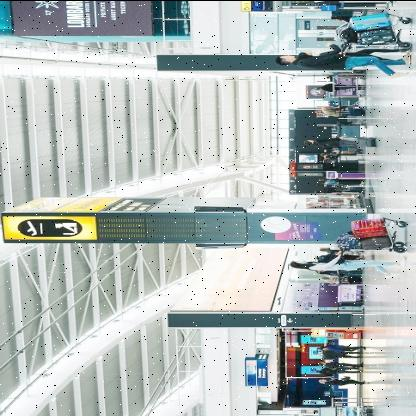airport-trolley: (330, 9, 416, 54), (336, 214, 414, 256), (330, 403, 370, 416)
